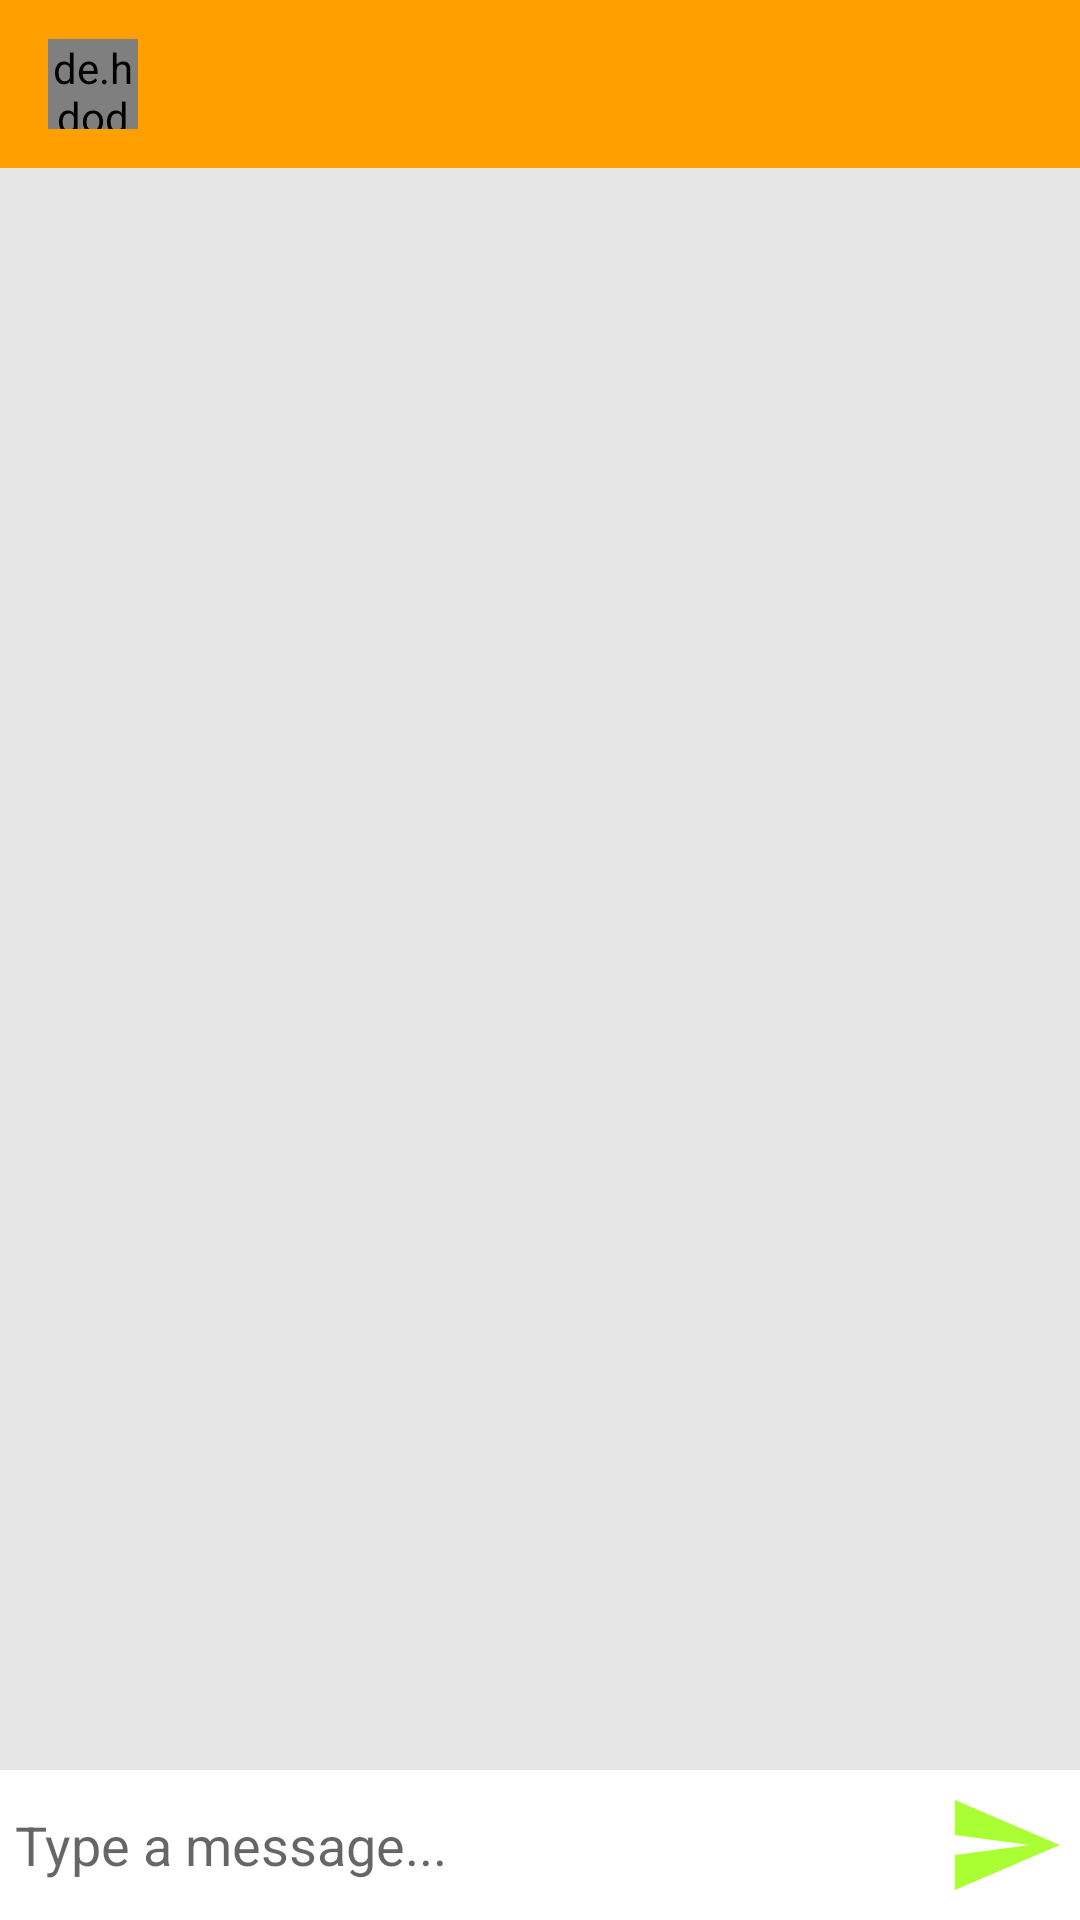

Where icons sit on this 1080*1920 app screen, as (x1, y1, x2, y2):
sendbutton: (955, 1800, 1060, 1890)
